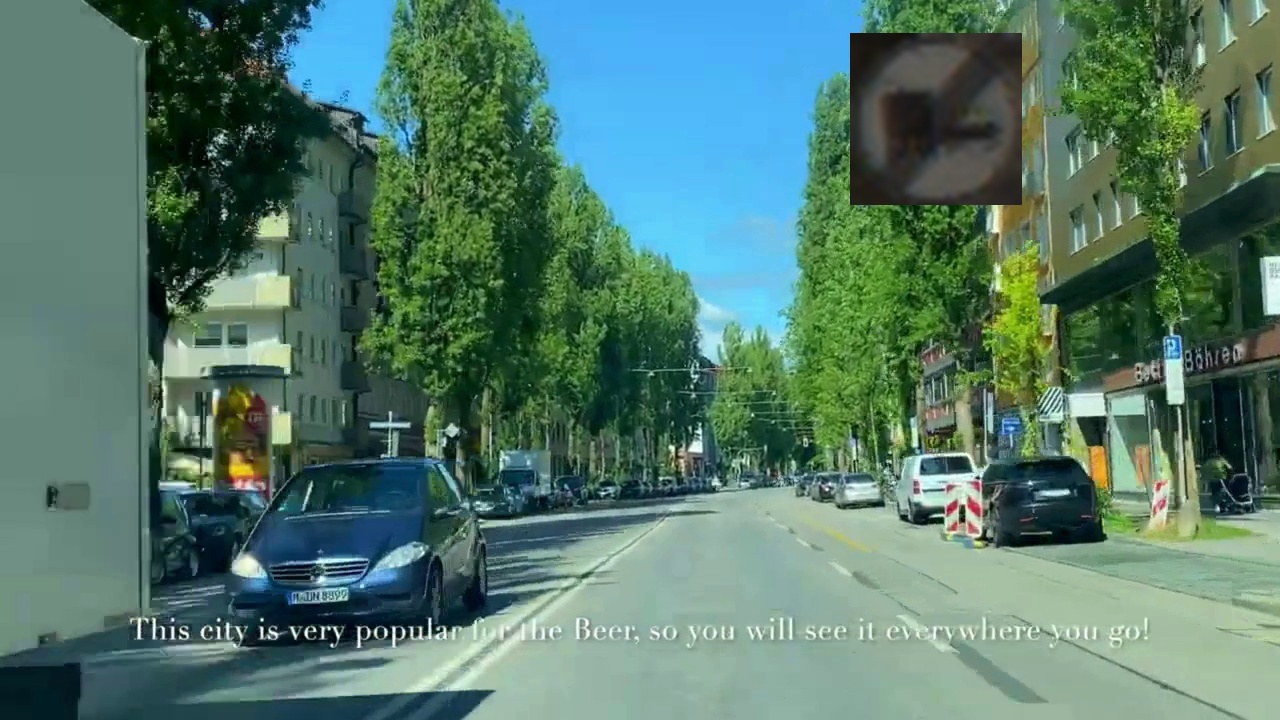End no pass >3.5t: (850, 33, 1022, 205)
